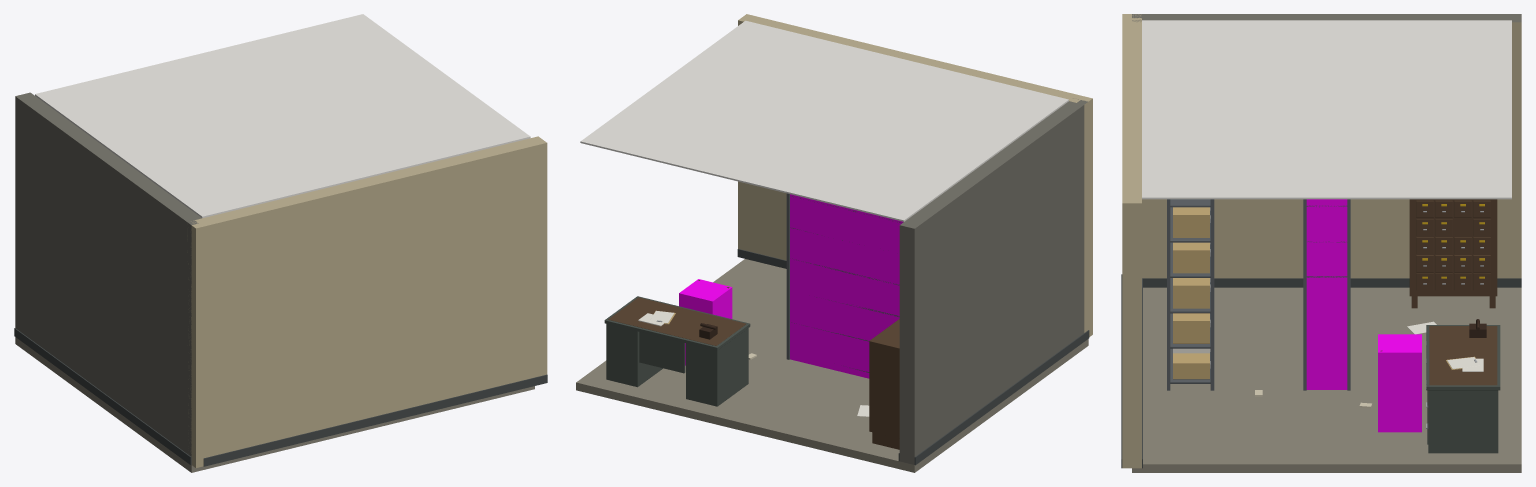
File: ENV_PaperRecordsArchive.glb
3 renders of one model, left to right at view 1: azimuth 30°, elevation 25°; view 2: azimuth 150°, elevation 25°; view 3: azimuth 270°, elevation 25°, orthographic. The views are drawn at different scales.
Visible parts, largest first — view 1: ENV_PaperRecordsArchive_Architecture, ENV_PaperRecordsArchive_Ceiling, ENV_PaperRecordsArchive_Posts; view 2: ENV_PaperRecordsArchive_Architecture, ENV_PaperRecordsArchive_Ceiling, PROP_Shelving_Archive_COL-colonly.001, PROP_Desk_Steel_Tanker_Mesh, PROP_Cabinet_Card_Index_Mesh, ENV_PaperRecordsArchive_Posts, PROP_Chair_Wood_Historic_COL-colonly.001, PROP_Shelving_Archive_Mesh.001; view 3: ENV_PaperRecordsArchive_Architecture, ENV_PaperRecordsArchive_Ceiling, PROP_Desk_Steel_Tanker_Mesh, PROP_Shelving_Archive_Mesh, PROP_Cabinet_Card_Index_Mesh, PROP_Shelving_Archive_COL-colonly.001, PROP_Chair_Wood_Historic_COL-colonly.001, PROP_Shelving_Archive_Mesh.001.
Part boxes in pixels (<box>): ENV_PaperRecordsArchive_Architecture: <box>14,92,547,472</box>; ENV_PaperRecordsArchive_Ceiling: <box>35,14,530,218</box>; ENV_PaperRecordsArchive_Posts: <box>187,219,211,467</box>; ENV_PaperRecordsArchive_Architecture: <box>576,14,1089,472</box>; ENV_PaperRecordsArchive_Ceiling: <box>580,20,1068,221</box>; PROP_Shelving_Archive_COL-colonly.001: <box>790,194,903,378</box>; PROP_Desk_Steel_Tanker_Mesh: <box>604,296,750,406</box>; PROP_Cabinet_Card_Index_Mesh: <box>869,319,899,449</box>; ENV_PaperRecordsArchive_Posts: <box>1074,95,1092,336</box>; PROP_Chair_Wood_Historic_COL-colonly.001: <box>679,279,732,365</box>; PROP_Shelving_Archive_Mesh.001: <box>786,193,901,372</box>; ENV_PaperRecordsArchive_Architecture: <box>1121,14,1521,472</box>; ENV_PaperRecordsArchive_Ceiling: <box>1142,20,1511,199</box>; PROP_Desk_Steel_Tanker_Mesh: <box>1426,319,1500,453</box>; PROP_Shelving_Archive_Mesh: <box>1167,199,1214,390</box>; PROP_Cabinet_Card_Index_Mesh: <box>1409,199,1497,308</box>; PROP_Shelving_Archive_COL-colonly.001: <box>1306,199,1347,389</box>; PROP_Chair_Wood_Historic_COL-colonly.001: <box>1378,334,1421,432</box>; PROP_Shelving_Archive_Mesh.001: <box>1303,199,1350,390</box>.
Size of what is drawn, in the model's own units: 4.61 by 3.12 by 4.11.
